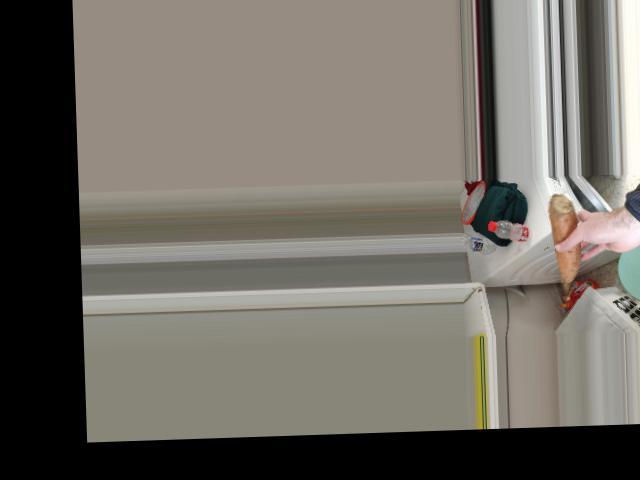sweet_potato: (557, 206, 581, 282)
